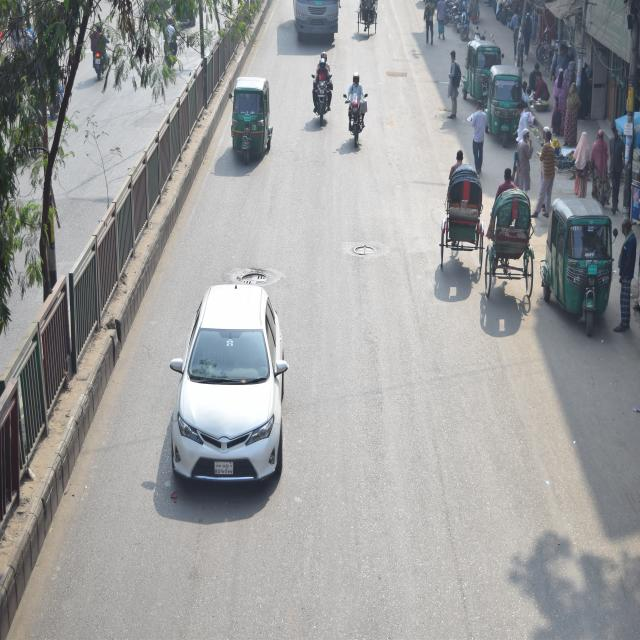bus: (292, 0, 340, 35)
car: (163, 284, 284, 498)
motorbike: (338, 96, 369, 151), (85, 32, 113, 91), (309, 74, 336, 127)
